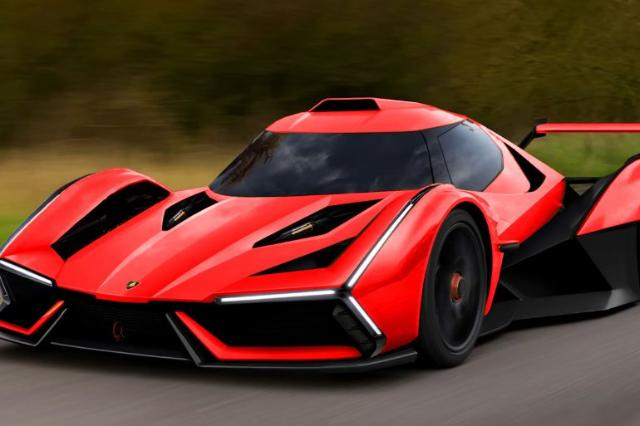lamborghini: (0, 96, 640, 374)
